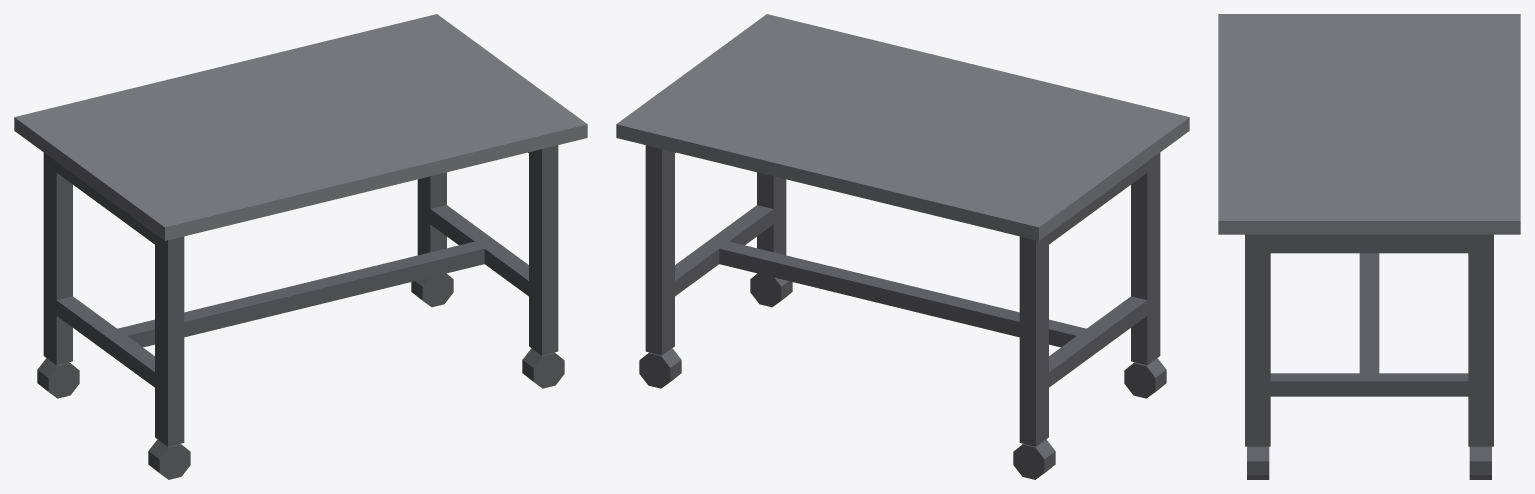
File: rolling-table.fbx
The picture shows the model from 3 angles, left to right: view 1: azimuth 30°, elevation 25°; view 2: azimuth 150°, elevation 25°; view 3: azimuth 270°, elevation 25°; orthographic projection.
Parts seen in each view (by area): view 1: rolling_table; view 2: rolling_table; view 3: rolling_table.
Part boxes in pixels (left/top/right/bottom): rolling_table: left=14, top=14, right=587, bottom=479; rolling_table: left=616, top=14, right=1189, bottom=479; rolling_table: left=1218, top=14, right=1520, bottom=479.
Bounding box in the file's own units: 203 × 123 × 125.
